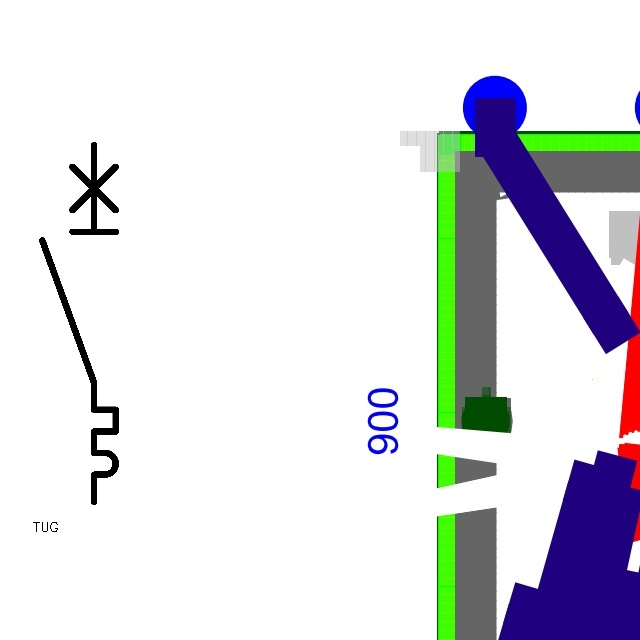interruptor_termomagnetico: (33, 136, 125, 511)
